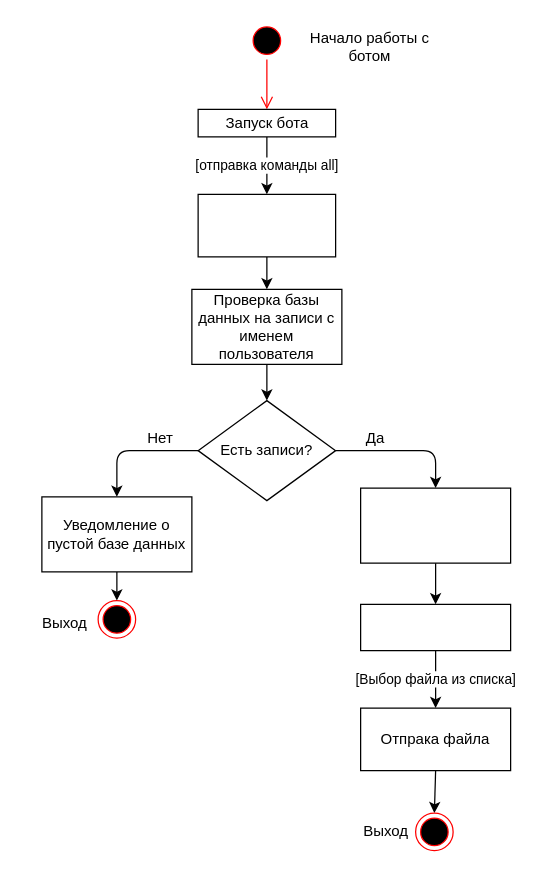
Image size: 536x873. Some labels were removed from this diagram. Each missing label, with the centre of its shape:
Копирование информации из базы данных в репозиторий: (435,525)
Отправка списка файлов: (435,627)
Создание репозитория для пользователя: (266,225)
